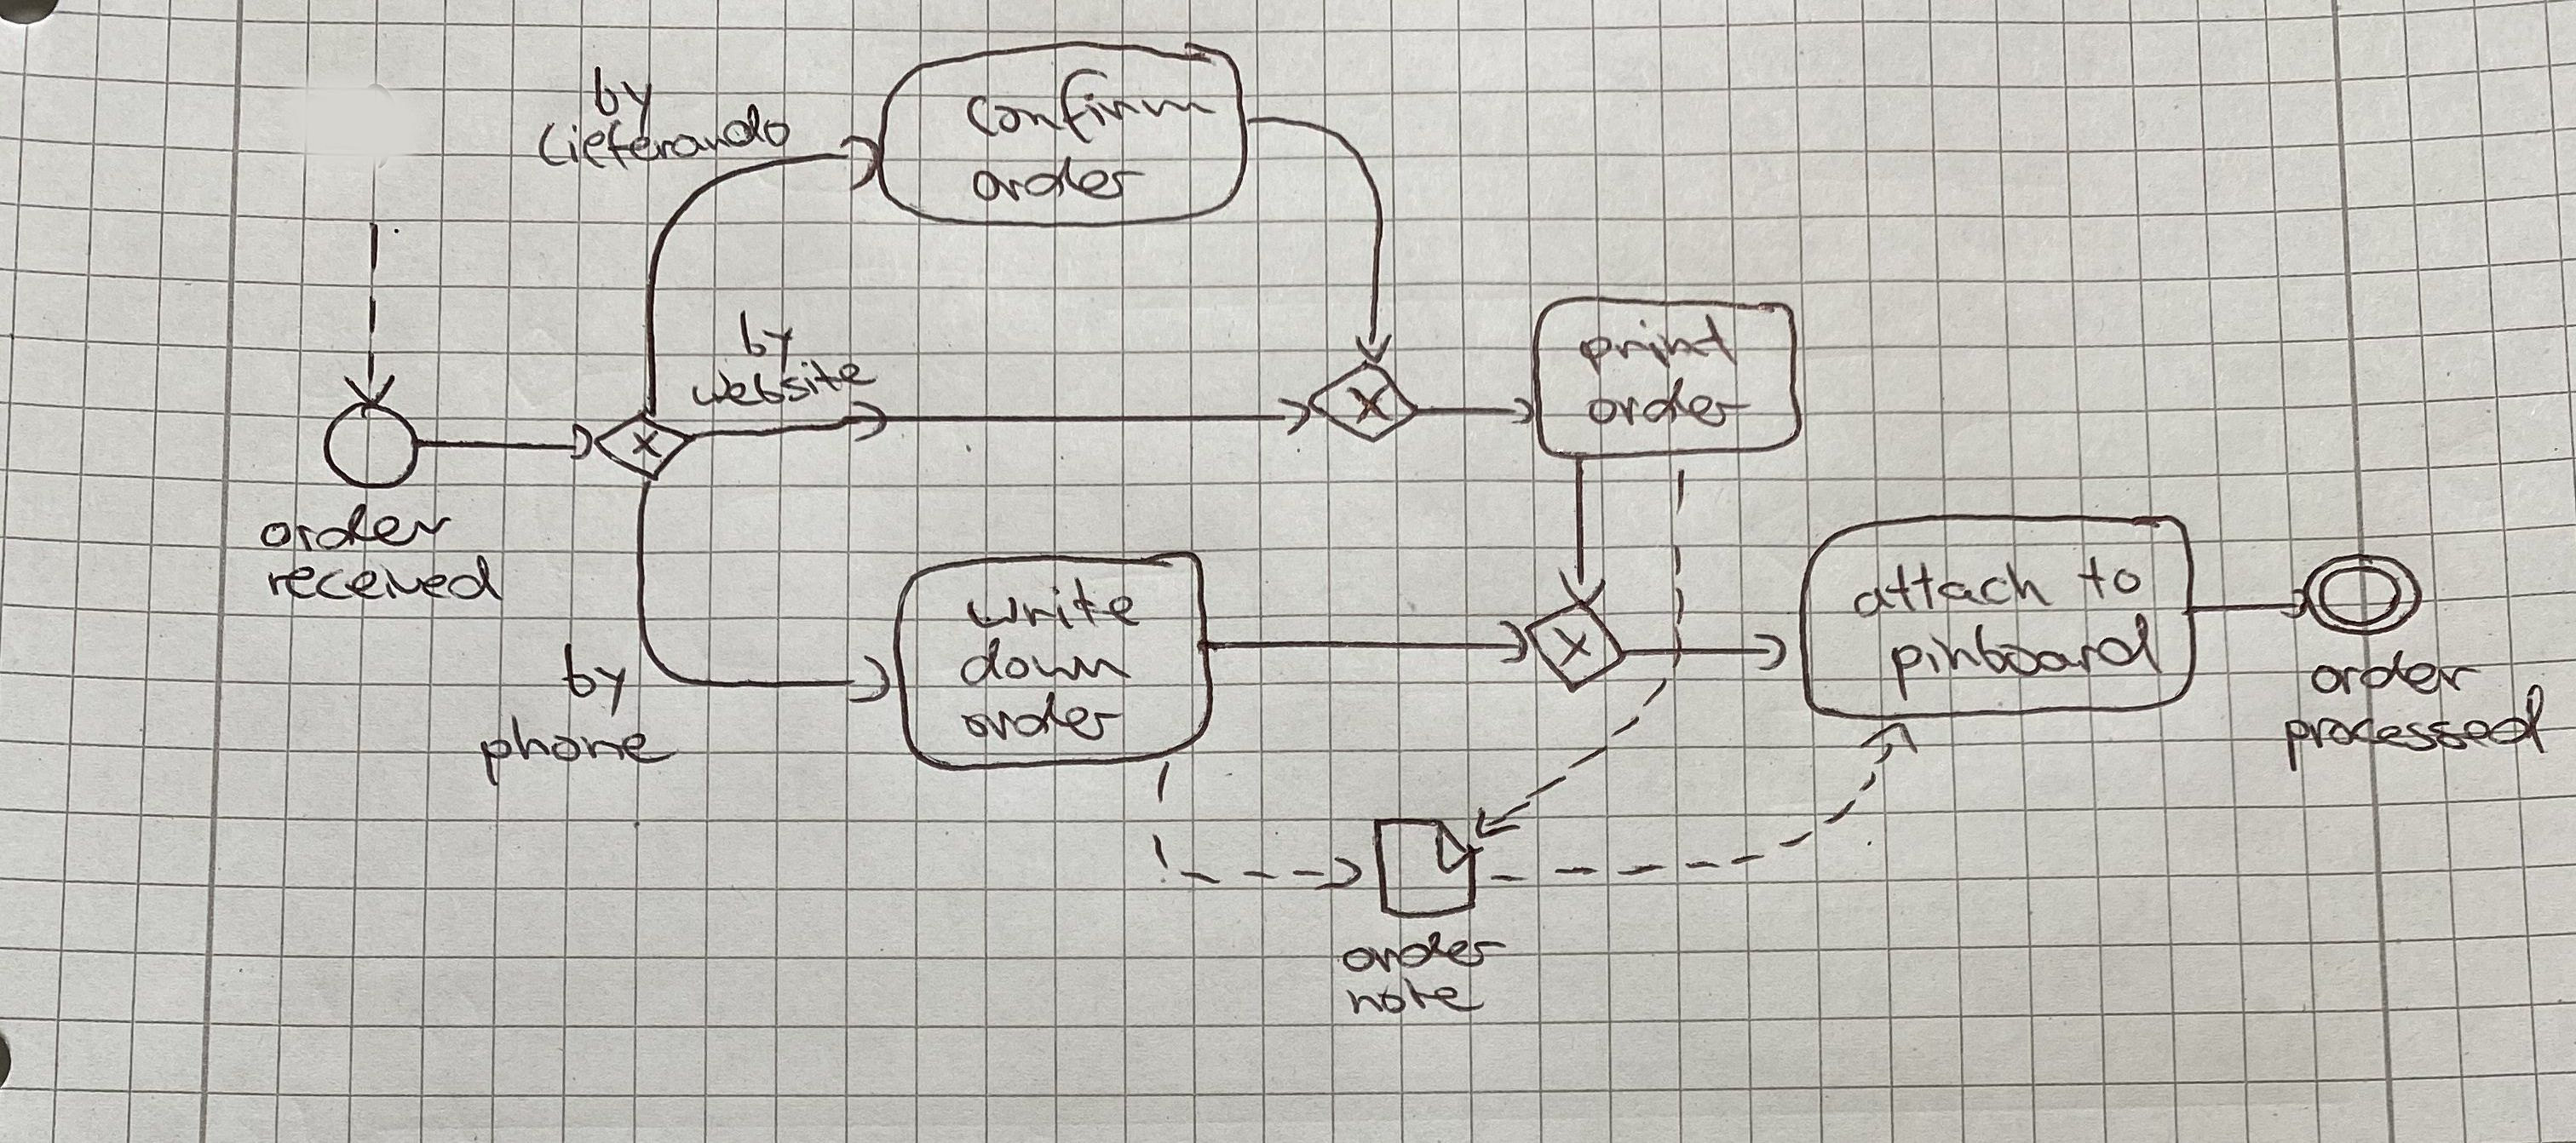Lieferando: (531, 103, 795, 174)
attach: (1851, 560, 2060, 621)
by: (555, 640, 636, 719), (588, 61, 657, 131), (733, 307, 800, 373)
confirm: (958, 62, 1222, 151)
down: (956, 634, 1135, 686)
note: (1342, 975, 1488, 1018)
order: (256, 499, 455, 555), (1582, 374, 1758, 432), (969, 153, 1148, 209), (956, 690, 1125, 747), (2307, 645, 2486, 700), (1337, 928, 1508, 979)
phone: (475, 716, 683, 788)
pinboard: (1888, 614, 2165, 701)
print: (1575, 314, 1769, 376)
processed: (2275, 685, 2551, 773)
received: (261, 552, 511, 606)
to: (2075, 550, 2146, 609)
website: (688, 353, 885, 409)
write: (963, 575, 1145, 632)
